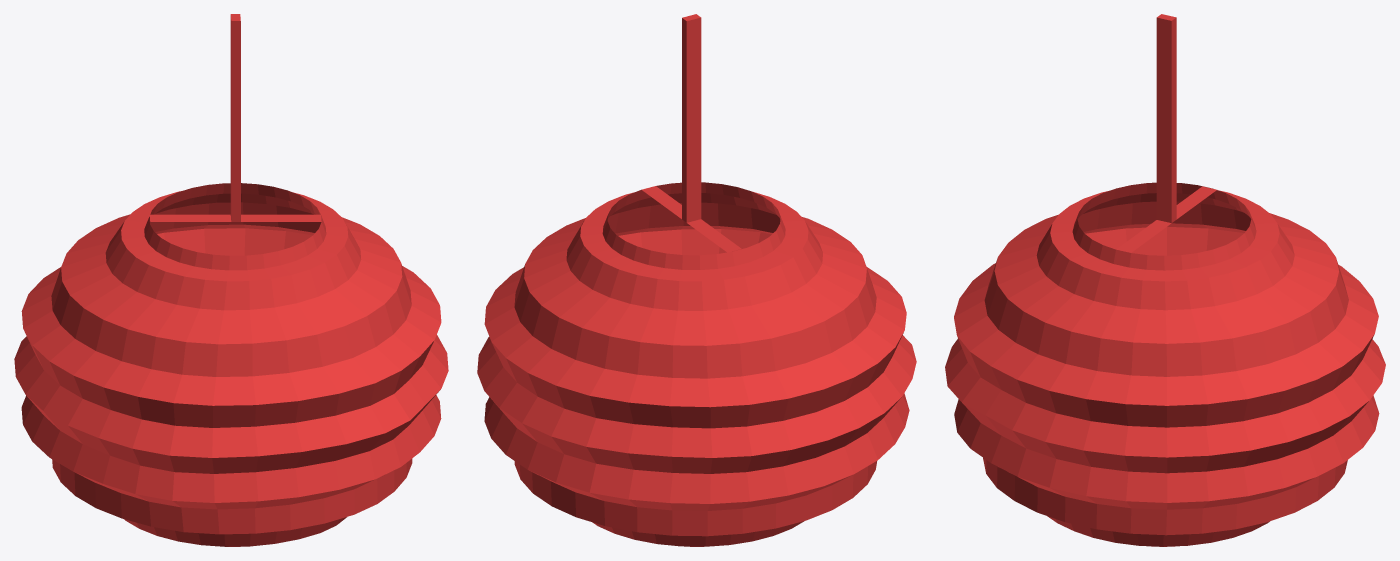
The model's file is a_lamp.fbx.
3 views of the same model, side by side, from view 1: azimuth 30°, elevation 25°; view 2: azimuth 150°, elevation 25°; view 3: azimuth 270°, elevation 25° (orthographic).
Visible parts, largest first — view 1: Circle; view 2: Circle; view 3: Circle.
Part boxes in pixels (<box>): Circle: <box>14,14,448,546</box>; Circle: <box>477,14,916,546</box>; Circle: <box>945,14,1385,546</box>.
Bounding box in the file's own units: 169 × 212 × 170.
